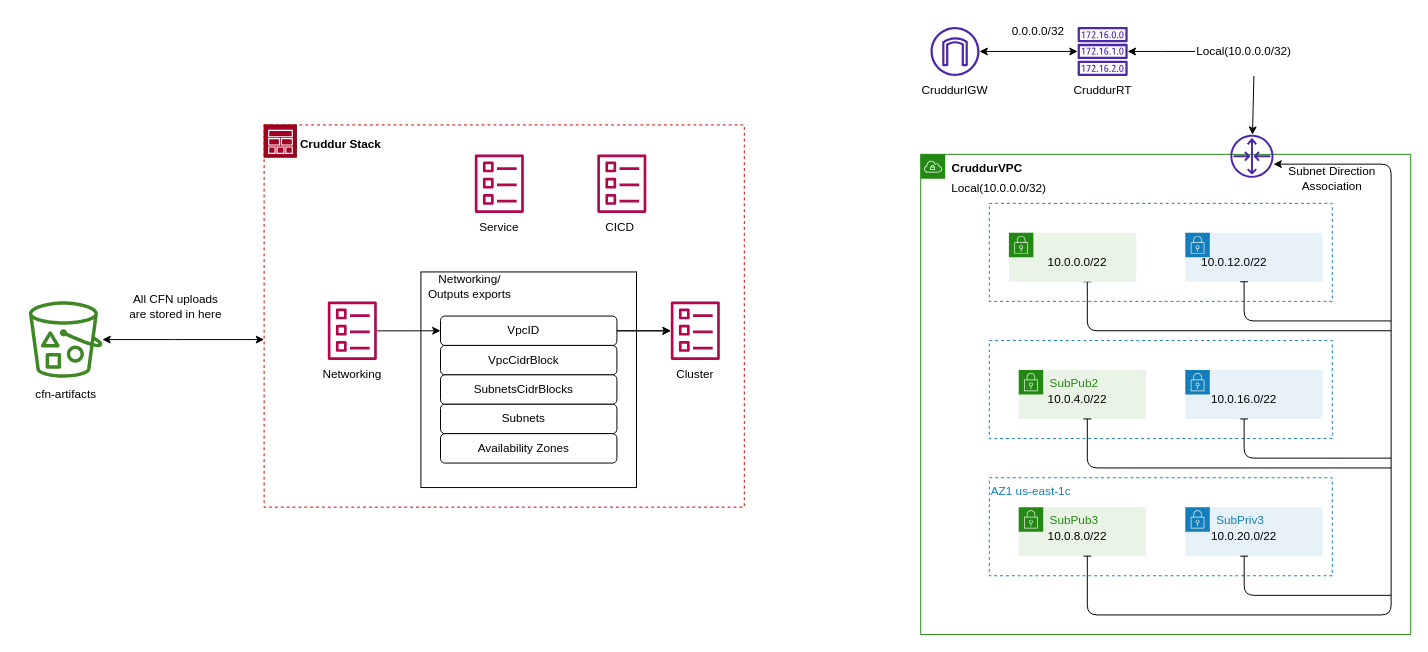
Some shapes in this 1428 by 652 pixel diagram are drawn without their labels. Each missing label, with the box of its shape:
AZ1 us-east-1a: (988, 202, 1332, 301)
AZ1 us-east-1b: (988, 340, 1332, 439)
SubPriv1: (1184, 232, 1323, 282)
SubPriv2: (1184, 369, 1323, 419)
SubPub1: (1008, 232, 1136, 282)
